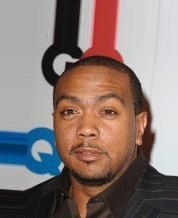face: (60, 106, 116, 161)
